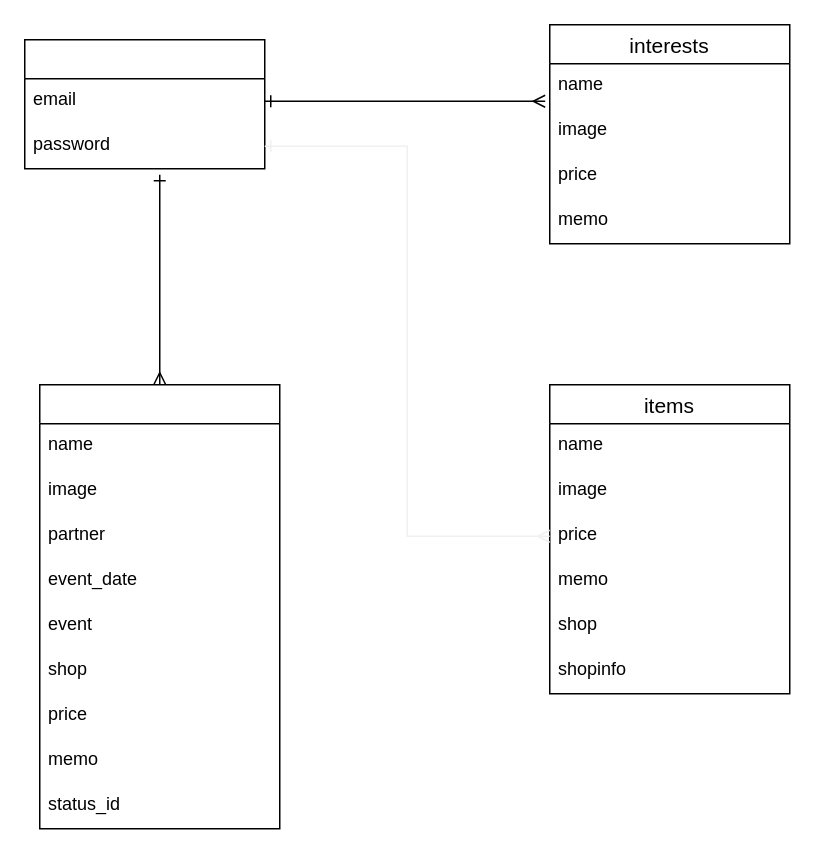
Some shapes in this 815 by 854 pixel diagram are drawn without their labels. The box of each missing label's shape, as (x1, y1, x2, y2) in pixels:
gifts: (38, 383, 280, 829)
users: (23, 38, 265, 169)
